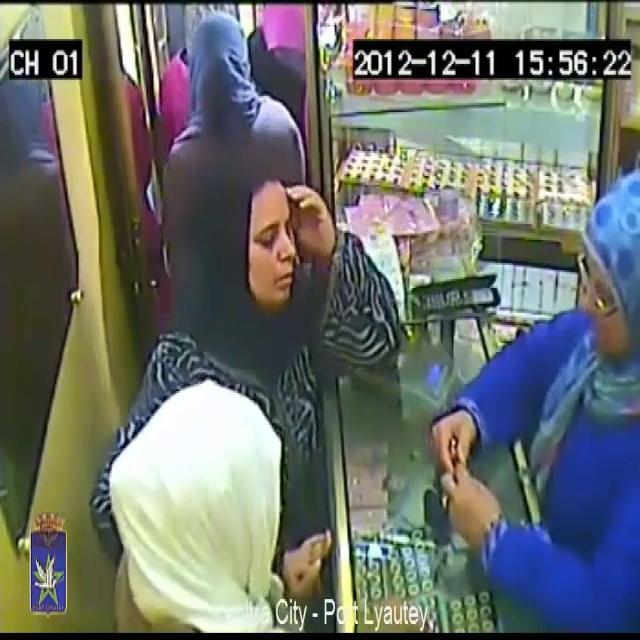Product: (438, 431, 464, 487)
normal: (105, 364, 323, 640), (241, 168, 346, 346), (248, 1, 328, 193), (173, 19, 263, 183)
shoplifting: (382, 144, 640, 627)
